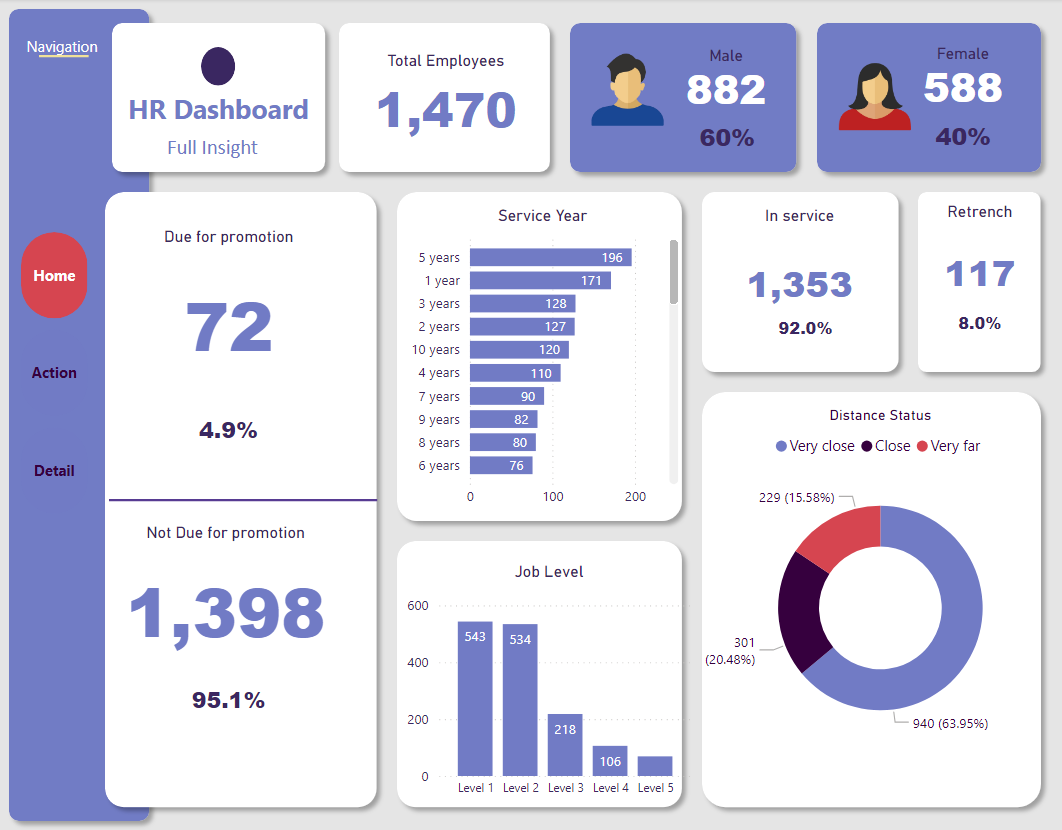

The dashboard page shown, as its layout file describes it:
{"tool":"powerbi","page":{"name":"Home","canvas":[960,750],"ordinal":0},"visuals":[{"type":"shape","box":[0,0,144.4,749.9],"z":0},{"type":"shape","box":[92.6,12.9,210.1,152.4],"z":2000},{"type":"shape","box":[297.8,12.9,208.1,152.4],"z":3000},{"type":"shape","box":[505.9,12.9,222.1,152.4],"z":4000},{"type":"shape","box":[728,12.9,220.1,152.4],"z":5000},{"type":"shape","box":[86.6,165.3,262.9,572.6],"z":6000},{"type":"shape","box":[349.5,165.3,274.9,314.7],"z":7000},{"type":"shape","box":[349.5,480,274.9,257.9],"z":8000},{"type":"shape","box":[624.4,345.6,323.7,392.4],"z":9000},{"type":"shape","box":[624.4,165.3,195.2,180.2],"z":10000},{"type":"shape","box":[819.6,165.3,128.5,180.2],"z":11000},{"type":"textbox","box":[99.6,77.7,197.2,48.8],"z":12000},{"type":"textbox","box":[93.6,116.5,197.2,48.8],"z":13000},{"type":"shape","box":[182.2,42.8,30.9,34.9],"z":14000},{"type":"card","title":"Total Employees","fields":{"Values":["All Measures.Total Emp"]},"box":[328.6,47.8,147.4,83.7],"z":15000},{"type":"card","title":"Male","fields":{"Values":["All Measures.Male"]},"box":[603.5,42.8,104.6,58.8],"z":16000},{"type":"card","title":"Male","fields":{"Values":["All Measures.% Male"]},"box":[617.4,106.6,77.7,38.8],"z":17000},{"type":"card","title":"Female","fields":{"Values":["All Measures.Female"]},"box":[816.6,41.9,104.6,58.8],"z":18000},{"type":"card","title":"Male","fields":{"Values":["All Measures.% Female"]},"box":[830.6,105.6,77.7,38.8],"z":19000},{"type":"image","box":[528.8,42.8,74.7,76.7],"z":20000},{"type":"image","box":[748.9,50.8,81.7,74.7],"z":21000},{"type":"card","fields":{"Values":["All Measures.% Due for promotion"]},"box":[144.4,345.6,125.5,89.6],"z":22000},{"type":"card","title":"Due for promotion","fields":{"Values":["All Measures.Due for promotion"]},"box":[123.5,206.1,167.3,154.4],"z":23000},{"type":"card","fields":{"Values":["All Measures.% Not due"]},"box":[144.4,588.5,125.5,89.6],"z":24000},{"type":"card","title":"Not Due for promotion","fields":{"Values":["All Measures.Not Due"]},"box":[99.6,473,210.1,136.4],"z":25000},{"type":"shape","box":[99.6,445.1,242,12.9],"z":26000},{"type":"barChart","title":"Service Year","fields":{"Category":["HR Analytics Data.Service Year"],"Y":["All Measures.Total Emp"]},"box":[362.5,187.2,254.9,278.8],"z":27000},{"type":"columnChart","title":"Job Level","fields":{"Category":["HR Analytics Data.Job Level"],"Y":["All Measures.Total Emp"]},"box":[362,508,267,221],"z":28000},{"type":"card","fields":{"Values":["All Measures.% In service"]},"box":[664.2,274.9,125.5,46.8],"z":29000},{"type":"card","title":"In service","fields":{"Values":["All Measures.In service"]},"box":[620.4,187.2,203.2,121.5],"z":30000},{"type":"card","fields":{"Values":["All Measures.% To be retrenched"]},"box":[847.5,265.9,73.7,55.8],"z":31000},{"type":"card","title":"Retrench","fields":{"Values":["All Measures.To be retrenched"]},"box":[838.5,184.2,91.6,109.5],"z":32000},{"type":"donutChart","title":"Distance Status","fields":{"Category":["HR Analytics Data.Distance Status"],"Y":["All Measures.Total Emp"]},"box":[629.4,367.5,330.6,318.7],"z":33000},{"type":"textbox","box":[19.9,28.9,85.6,43.8],"z":34000},{"type":"shape","box":[35.8,12.9,44.8,77.7],"z":35000},{"type":"pageNavigator","box":[19.9,210.1,60.7,255.9],"z":35001}]}

Visuals, with their boxes in screenshot pixels (x1, y1, x2, y2), scaled from the page's 960x750 canvas onto the 1062x830 screenshot:
shape: <box>0,0,160,829</box>
shape: <box>102,14,335,183</box>
shape: <box>329,14,560,183</box>
shape: <box>560,14,805,183</box>
shape: <box>805,14,1049,183</box>
shape: <box>96,183,387,817</box>
shape: <box>387,183,691,531</box>
shape: <box>387,531,691,817</box>
shape: <box>691,382,1049,817</box>
shape: <box>691,183,907,382</box>
shape: <box>907,183,1049,382</box>
textbox: <box>110,86,328,140</box>
textbox: <box>104,129,322,183</box>
shape: <box>202,47,236,86</box>
"Total Employees" card: <box>364,53,527,146</box>
"Male" card: <box>668,47,783,112</box>
"Male" card: <box>683,118,769,161</box>
"Female" card: <box>903,46,1019,111</box>
"Male" card: <box>919,117,1005,160</box>
image: <box>585,47,668,132</box>
image: <box>828,56,919,139</box>
card - All Measures.% Due for promotion: <box>160,382,299,482</box>
"Due for promotion" card: <box>137,228,322,399</box>
card - All Measures.% Not due: <box>160,651,299,750</box>
"Not Due for promotion" card: <box>110,523,343,674</box>
shape: <box>110,493,378,507</box>
"Service Year" barChart: <box>401,207,683,516</box>
"Job Level" columnChart: <box>400,562,696,807</box>
card - All Measures.% In service: <box>735,304,874,356</box>
"In service" card: <box>686,207,911,342</box>
card - All Measures.% To be retrenched: <box>938,294,1019,356</box>
"Retrench" card: <box>928,204,1029,325</box>
"Distance Status" donutChart: <box>696,407,1061,759</box>
textbox: <box>22,32,117,80</box>
shape: <box>40,14,89,100</box>
pageNavigator: <box>22,233,89,516</box>
